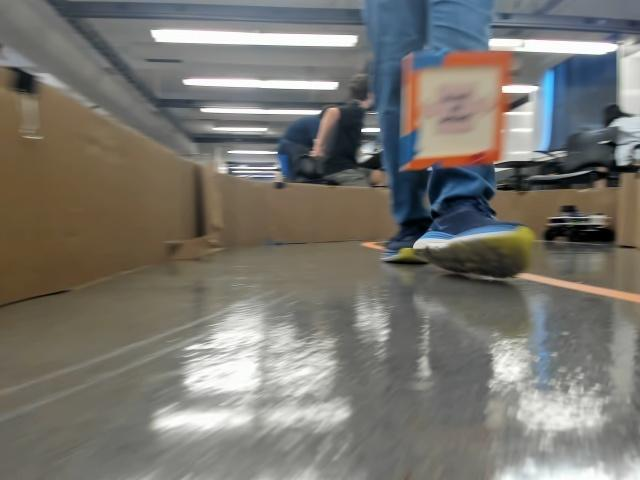Do Not Go Around: (420, 82, 491, 137)
